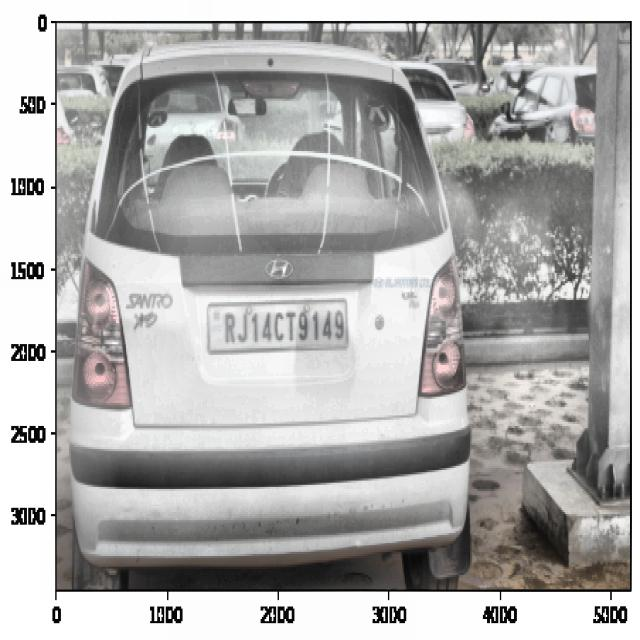license_plate: (214, 302, 350, 352)
